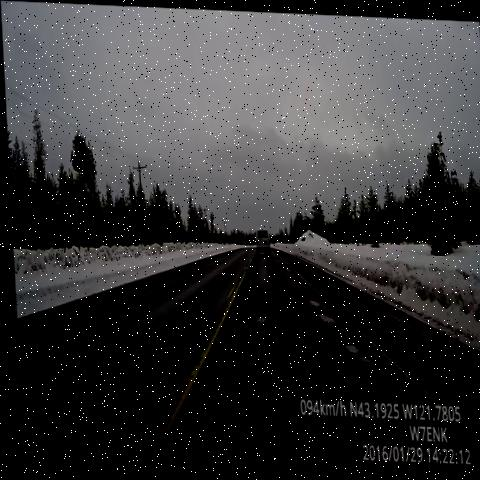pothole: (293, 279, 340, 327), (335, 327, 371, 371), (243, 304, 274, 334), (276, 258, 296, 279), (269, 250, 281, 264)
